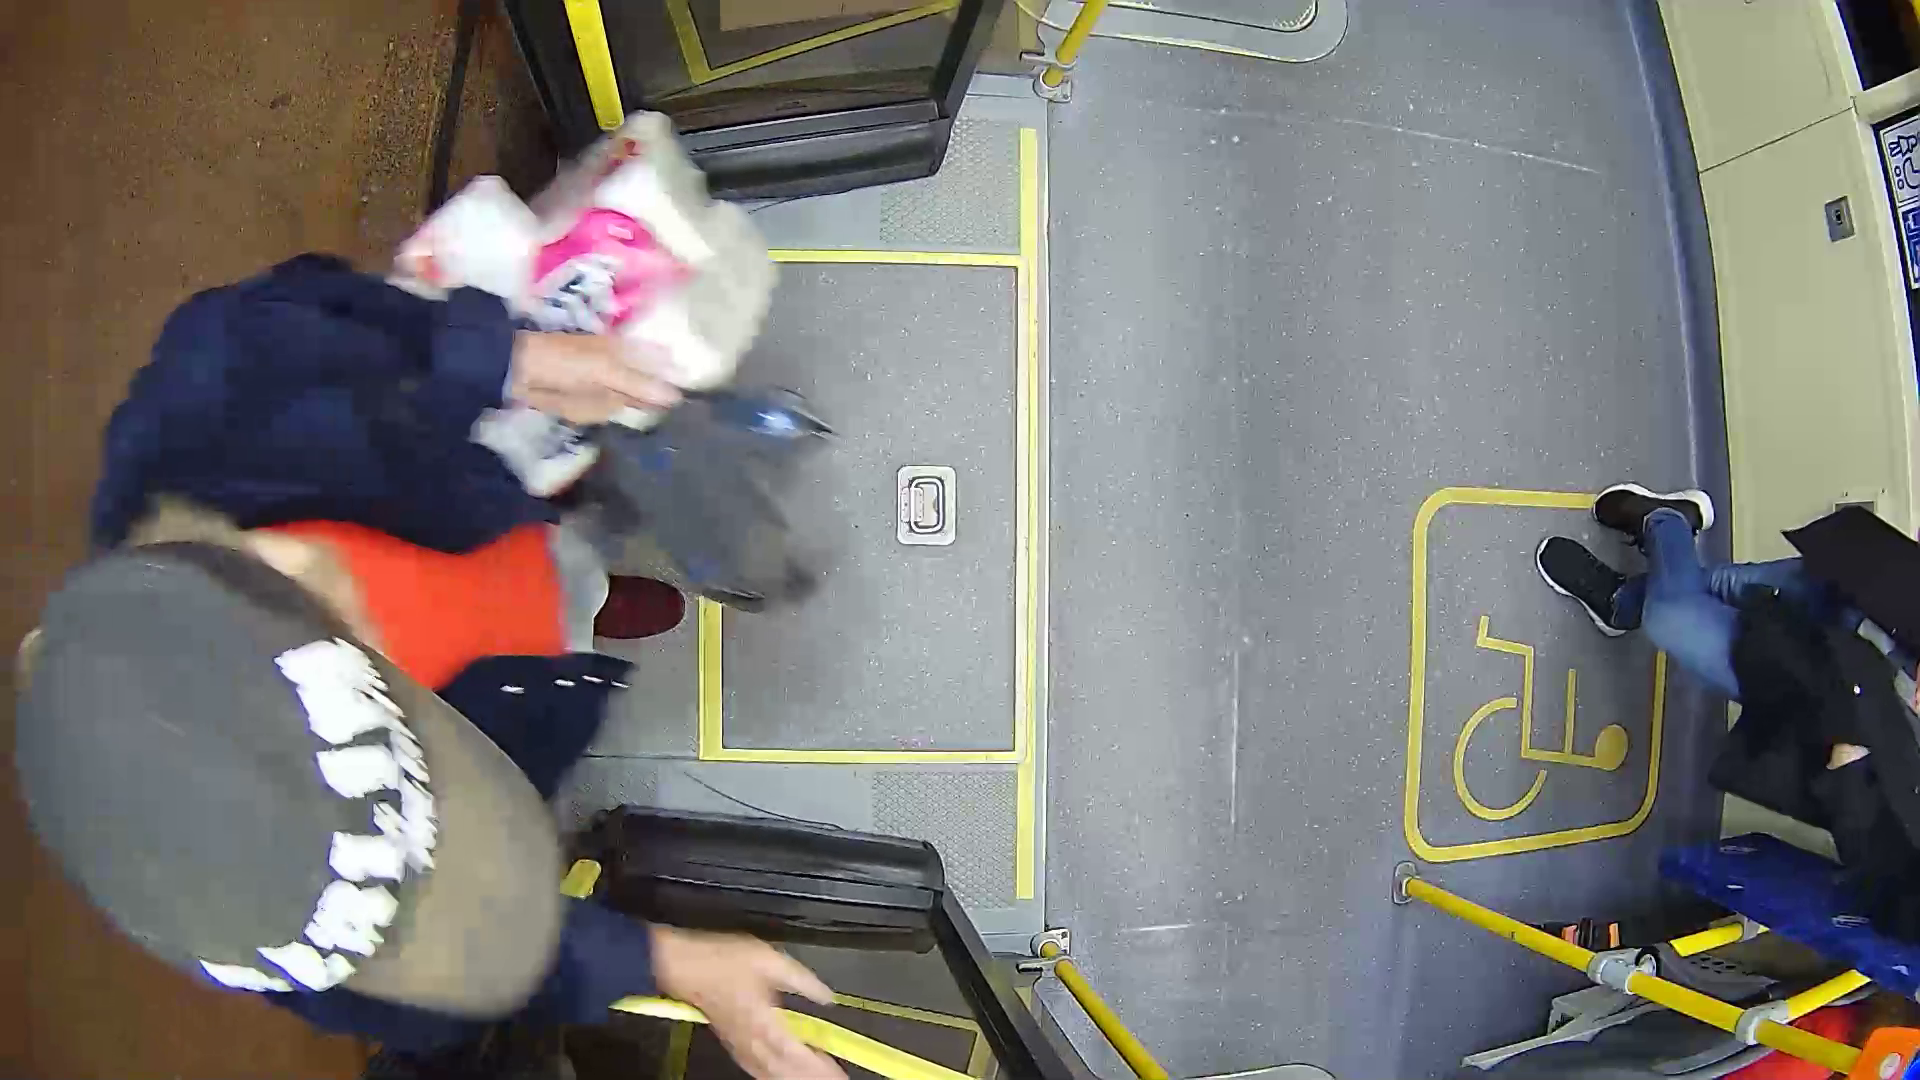person: (41, 188, 948, 1080)
